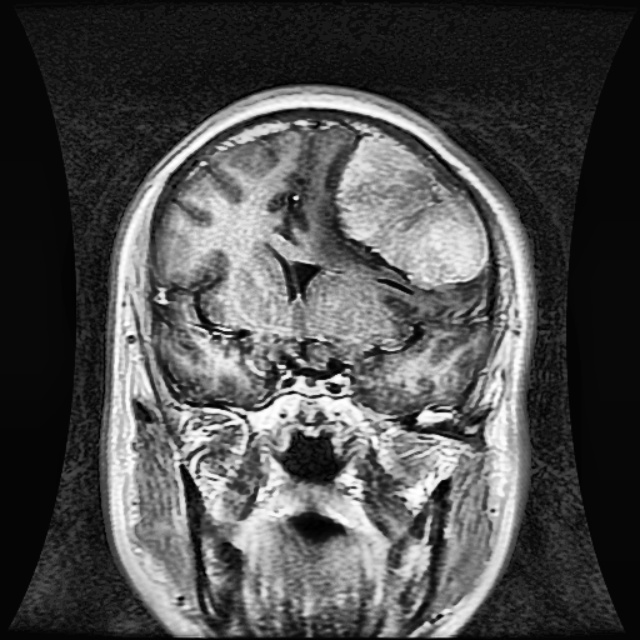Glioma: (335, 134, 488, 288)
